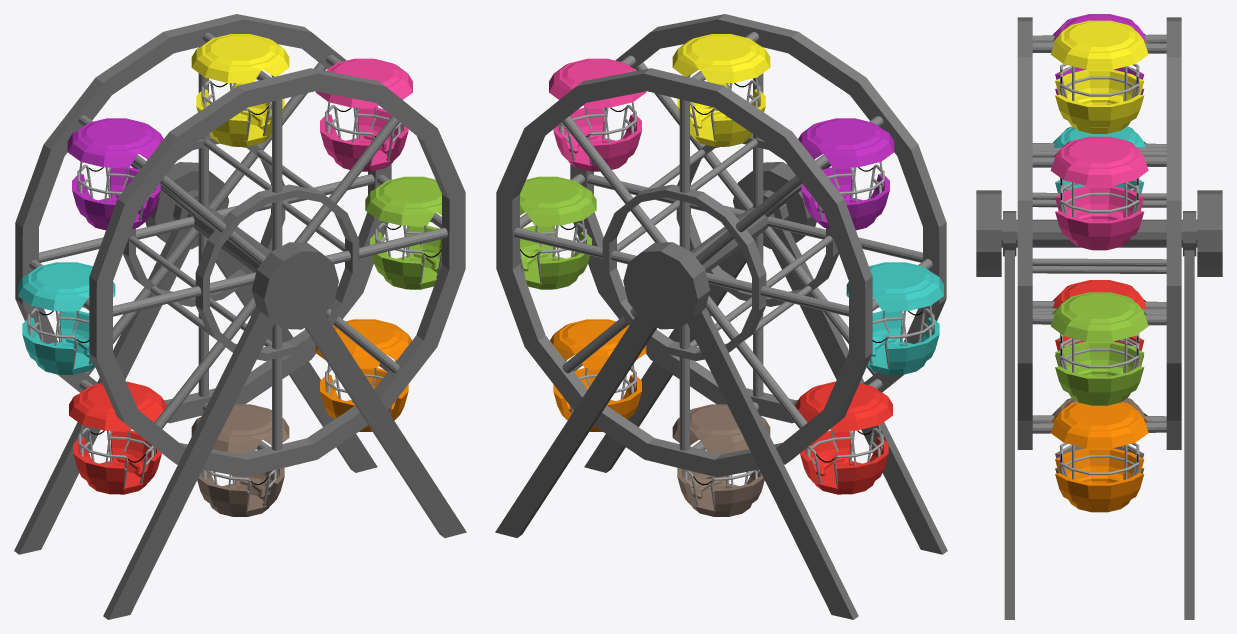
File: Ferris_wheel_01.fbx
The picture shows the model from 3 angles, left to right: view 1: azimuth 30°, elevation 25°; view 2: azimuth 150°, elevation 25°; view 3: azimuth 270°, elevation 25°; orthographic projection.
Visible parts, largest first — view 1: Ferris_wheel_01_2, Ferris_wheel_01, Ferris_wheel_01_4, Ferris_wheel_01_5, Ferris_wheel_01_6, Ferris_wheel_01_9, Ferris_wheel_01_7, Ferris_wheel_01_8, Ferris_wheel_01_3, Ferris_wheel_01_10; view 2: Ferris_wheel_01_2, Ferris_wheel_01, Ferris_wheel_01_4, Ferris_wheel_01_5, Ferris_wheel_01_6, Ferris_wheel_01_9, Ferris_wheel_01_7, Ferris_wheel_01_8, Ferris_wheel_01_3, Ferris_wheel_01_10; view 3: Ferris_wheel_01_2, Ferris_wheel_01, Ferris_wheel_01_8, Ferris_wheel_01_9, Ferris_wheel_01_7, Ferris_wheel_01_10, Ferris_wheel_01_4, Ferris_wheel_01_5, Ferris_wheel_01_6, Ferris_wheel_01_3.
Boxes of the visible parts, x1,y1,x2,y2 form: Ferris_wheel_01_2: (15, 14, 465, 477); Ferris_wheel_01: (14, 190, 466, 619); Ferris_wheel_01_4: (69, 380, 166, 494); Ferris_wheel_01_5: (18, 260, 115, 374); Ferris_wheel_01_6: (67, 115, 163, 230); Ferris_wheel_01_9: (365, 175, 441, 289); Ferris_wheel_01_7: (191, 32, 289, 146); Ferris_wheel_01_8: (315, 55, 412, 171); Ferris_wheel_01_3: (191, 403, 289, 516); Ferris_wheel_01_10: (315, 319, 411, 431); Ferris_wheel_01_2: (496, 14, 946, 477); Ferris_wheel_01: (495, 190, 947, 619); Ferris_wheel_01_4: (795, 379, 892, 494); Ferris_wheel_01_5: (846, 259, 943, 374); Ferris_wheel_01_6: (798, 116, 894, 230); Ferris_wheel_01_9: (520, 174, 596, 289); Ferris_wheel_01_7: (672, 32, 770, 146); Ferris_wheel_01_8: (549, 55, 646, 171); Ferris_wheel_01_3: (672, 402, 770, 516); Ferris_wheel_01_10: (550, 319, 646, 431); Ferris_wheel_01_2: (976, 17, 1222, 449); Ferris_wheel_01: (1003, 211, 1196, 619); Ferris_wheel_01_8: (1032, 136, 1166, 250); Ferris_wheel_01_9: (1032, 292, 1166, 405); Ferris_wheel_01_7: (1032, 20, 1166, 133); Ferris_wheel_01_10: (1032, 402, 1166, 512); Ferris_wheel_01_4: (1032, 280, 1166, 366); Ferris_wheel_01_5: (1032, 126, 1166, 193); Ferris_wheel_01_6: (1032, 14, 1166, 94); Ferris_wheel_01_3: (1032, 397, 1166, 473).
Size of the model in its own units: 1103 by 1205 by 540.
